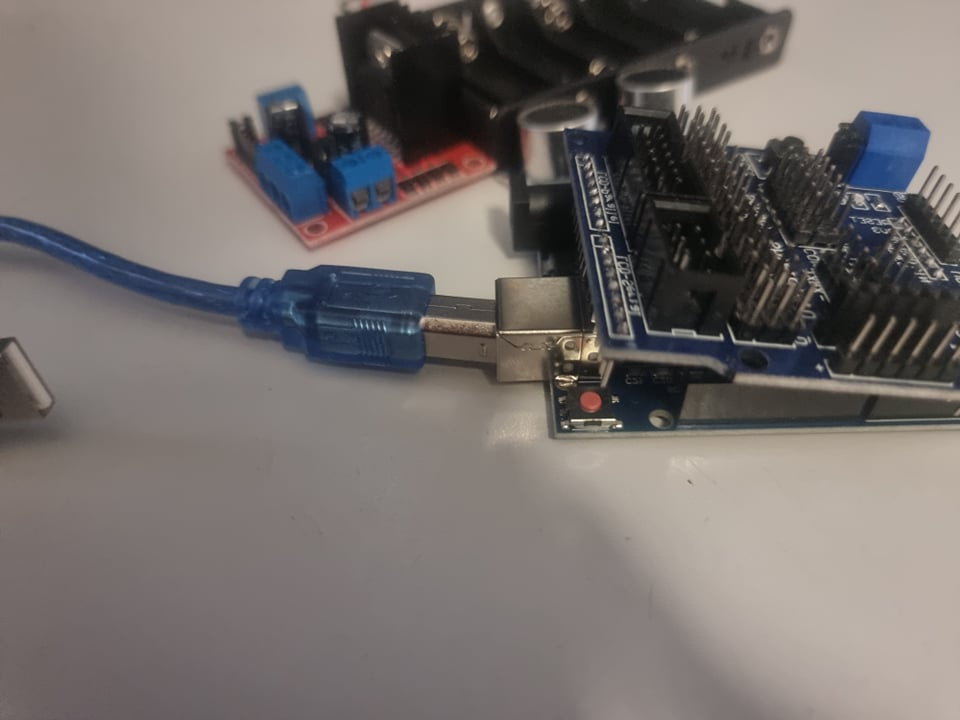5V EXPANSION: (590, 103, 955, 365)
BATTERY BOX: (445, 1, 794, 93)
MOTOR: (222, 3, 493, 253)
UNO R3: (494, 138, 591, 449)
